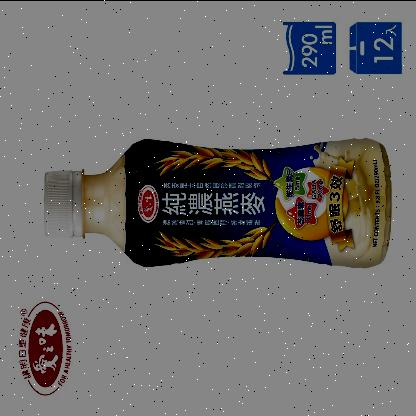Plastic Bottle: (45, 138, 390, 266)
